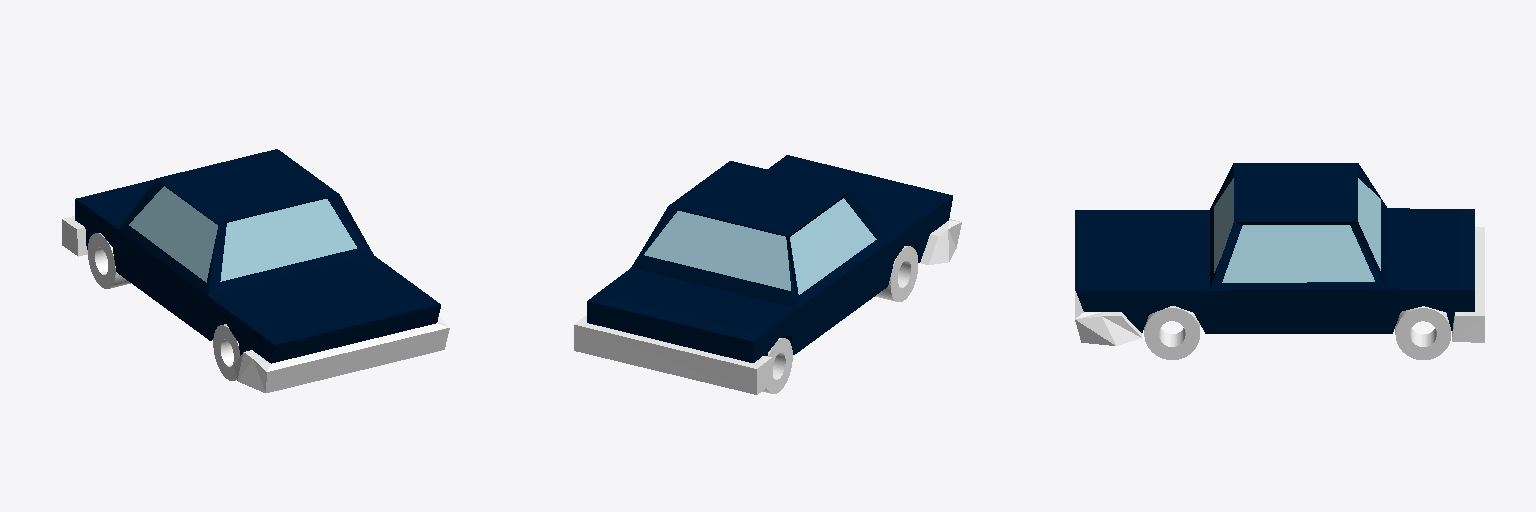
File: Aram's Car.obj
3 views of the same model, side by side, from view 1: azimuth 30°, elevation 25°; view 2: azimuth 150°, elevation 25°; view 3: azimuth 270°, elevation 25° (orthographic).
Visible parts, largest first — view 1: Aram's Car; view 2: Aram's Car; view 3: Aram's Car.
Part boxes in pixels (x1,y1,x2,y2): Aram's Car: (62,149,449,392); Aram's Car: (574,155,961,394); Aram's Car: (1075,163,1484,359).
Size of the model in its own units: 11.88 by 7.24 by 21.12.